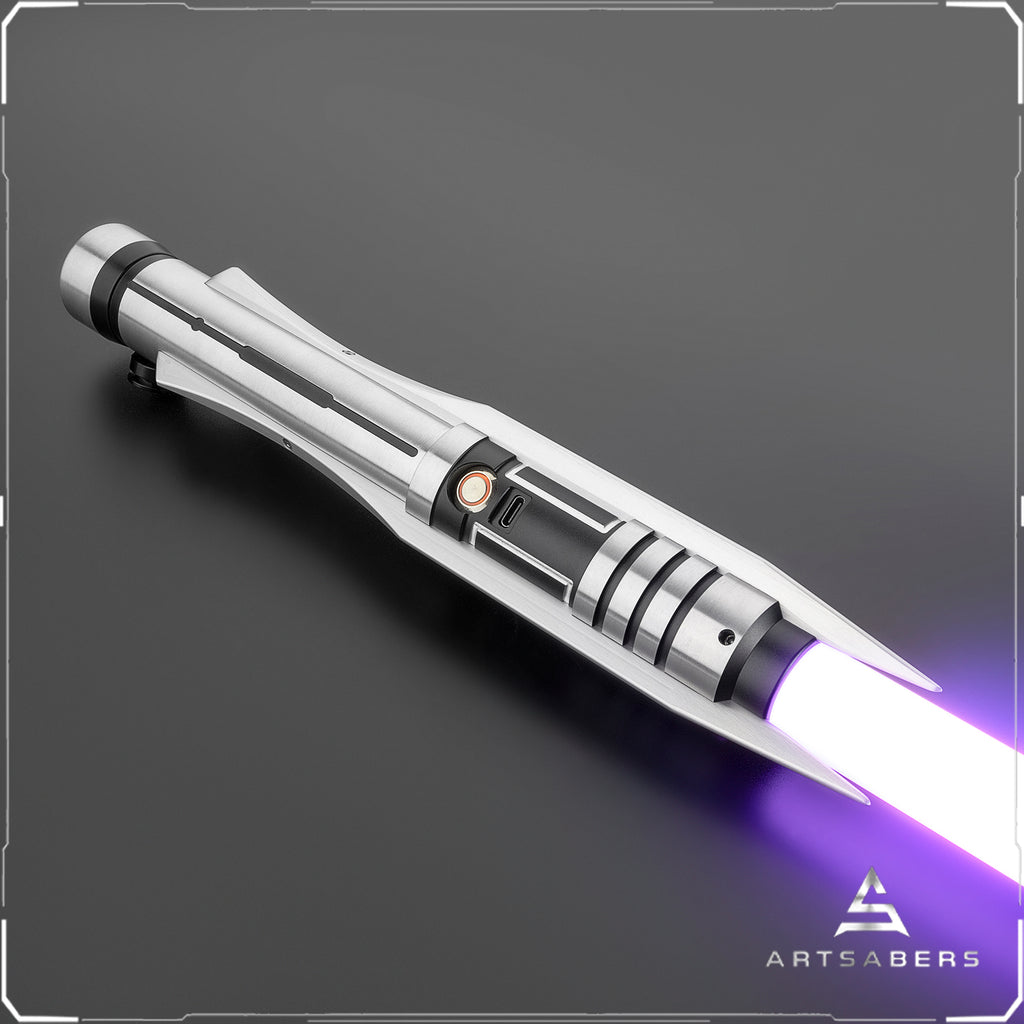lightsaber: (0, 163, 989, 970)
